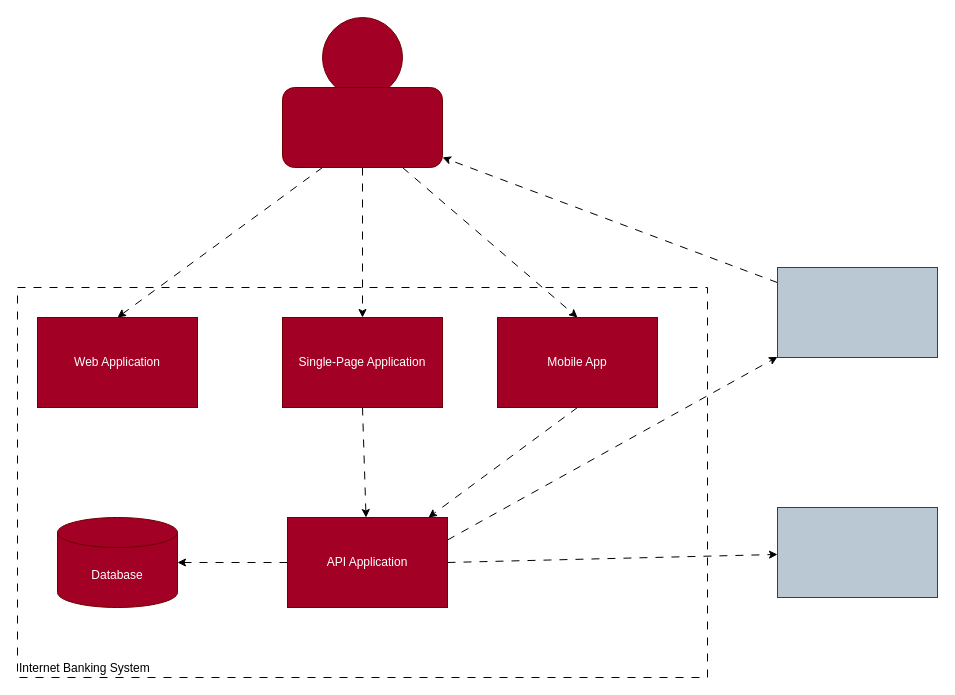
The diagram is 955 pixels wide and 695 high, and some of its shapes have lost their labels. The centre of each missing label's shape, as x and y in pixels:
Customer: (362,127)
E-Mail system: (857,312)
Mainframe: (857,552)
